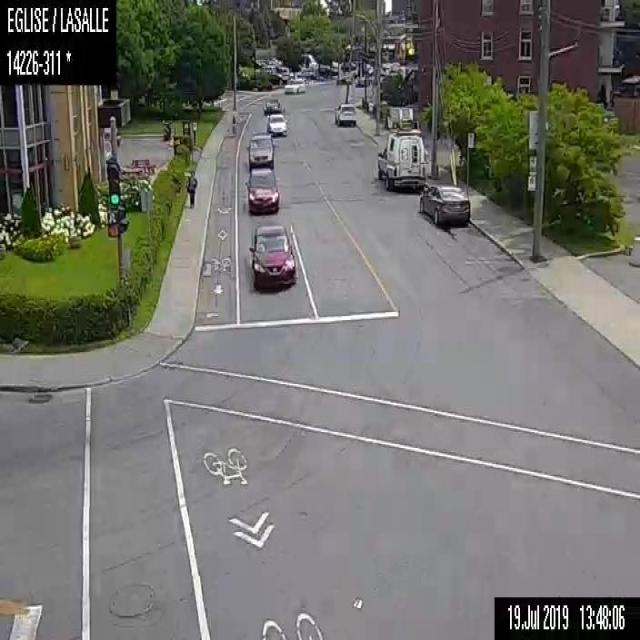cyclist: (231, 113, 235, 136)
pedestrian: (185, 168, 198, 208)
vehicle: (376, 119, 428, 191), (247, 222, 295, 290), (418, 181, 470, 225), (243, 166, 280, 214), (247, 130, 274, 168), (333, 101, 357, 127), (266, 112, 286, 135), (283, 75, 305, 93), (262, 97, 282, 112), (269, 72, 283, 84)
